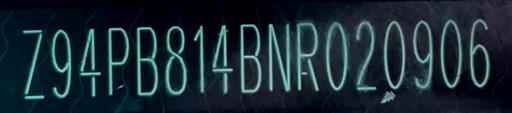letter: (466, 15, 496, 90), (265, 20, 293, 95), (236, 21, 264, 96), (162, 23, 190, 98), (76, 24, 104, 99), (19, 25, 47, 100), (294, 21, 322, 94), (438, 15, 464, 92), (134, 24, 160, 101), (352, 19, 378, 94), (209, 21, 235, 96), (105, 24, 131, 99), (324, 19, 350, 92), (48, 28, 74, 101), (382, 18, 406, 93), (410, 17, 434, 90), (190, 22, 208, 97)
